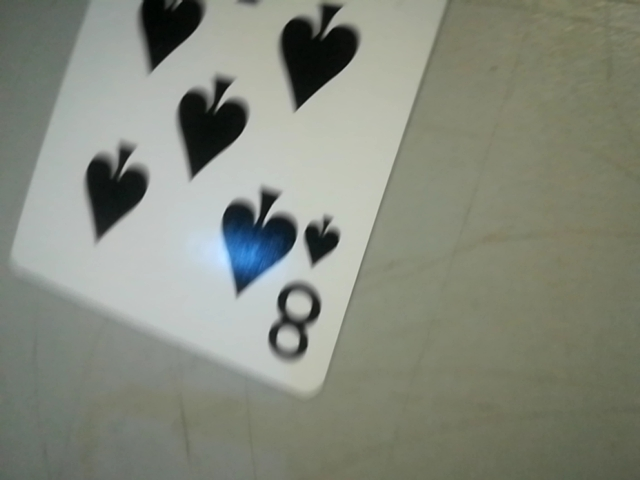ht 8: (257, 192, 345, 382)
